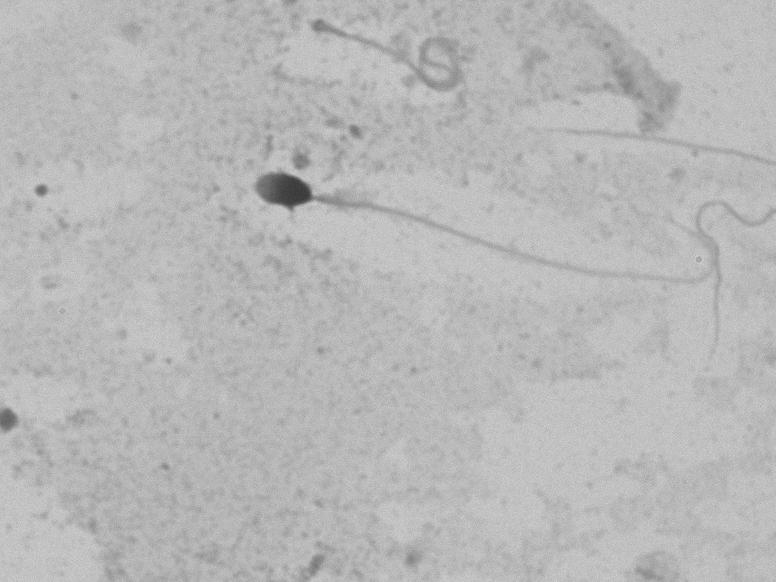Normal: (196, 167, 755, 312)
